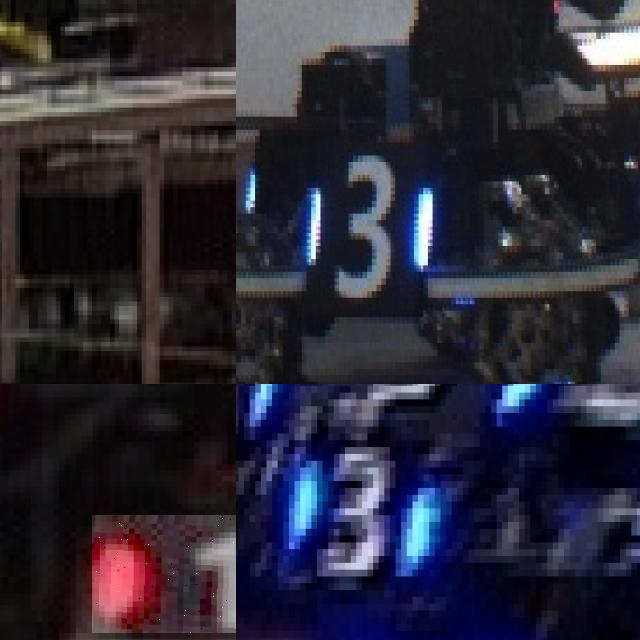B3: (266, 447, 458, 583), (304, 156, 433, 298), (300, 384, 547, 419)
R1: (92, 515, 236, 633)
